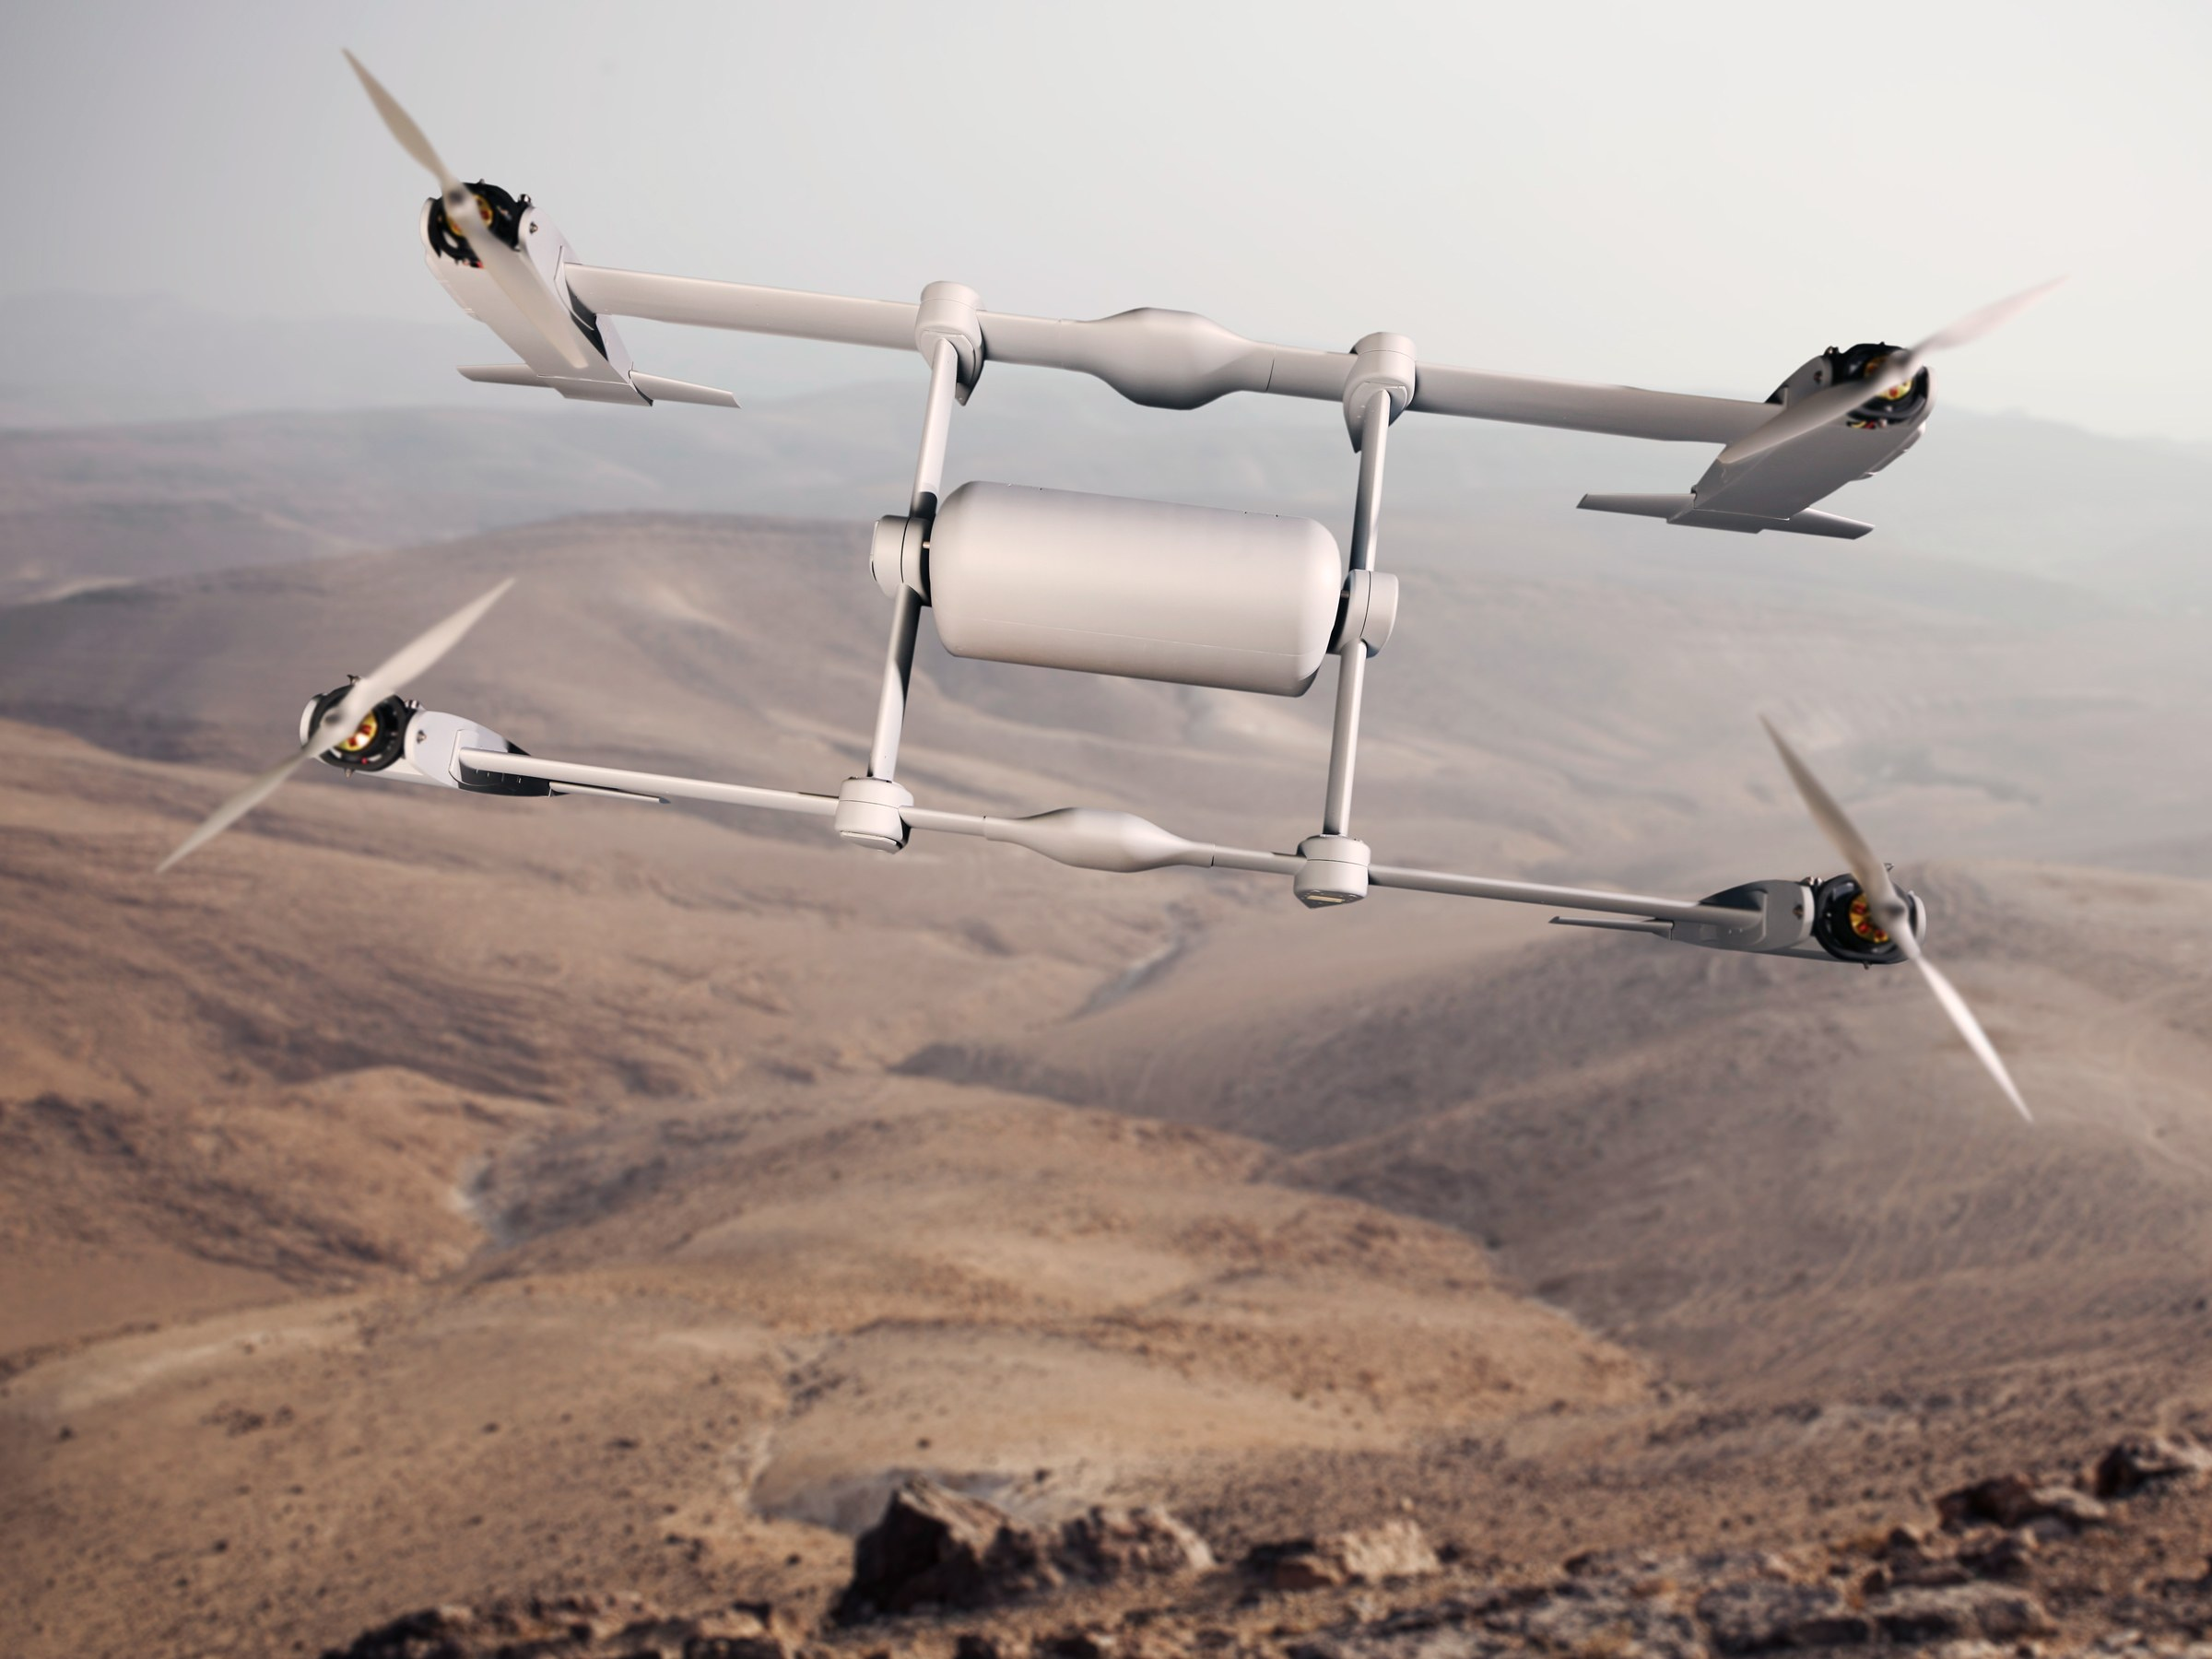drone: (141, 33, 2128, 1131)
